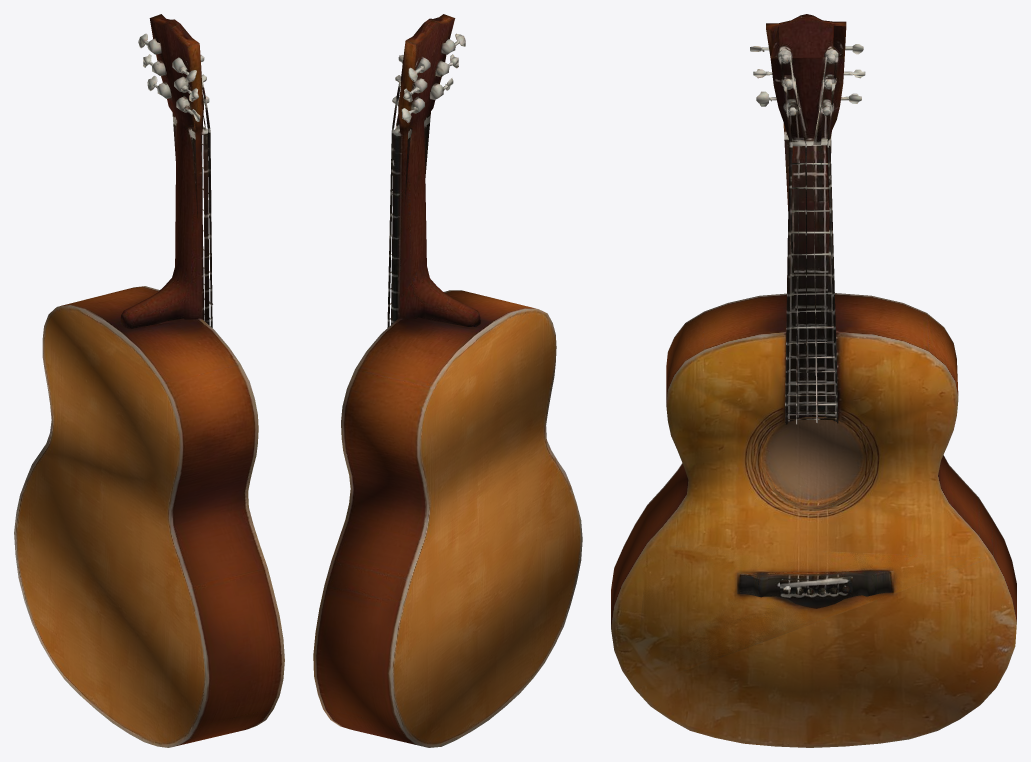
The model's file is guitar.glb.
3 renders of one model, left to right at view 1: azimuth 30°, elevation 25°; view 2: azimuth 150°, elevation 25°; view 3: azimuth 270°, elevation 25°, orthographic. The views are drawn at different scales.
Visible parts, largest first — view 1: tripo_node_04c2d384-a746-4461-ad0c-917db1d6f379; view 2: tripo_node_04c2d384-a746-4461-ad0c-917db1d6f379; view 3: tripo_node_04c2d384-a746-4461-ad0c-917db1d6f379.
Part boxes in pixels (<box>): tripo_node_04c2d384-a746-4461-ad0c-917db1d6f379: <box>14,14,284,747</box>; tripo_node_04c2d384-a746-4461-ad0c-917db1d6f379: <box>313,14,582,747</box>; tripo_node_04c2d384-a746-4461-ad0c-917db1d6f379: <box>611,14,1016,747</box>.
Bounding box in the file's own units: 0.1387 × 0.998 × 0.502.
1 material, 1 textured.
